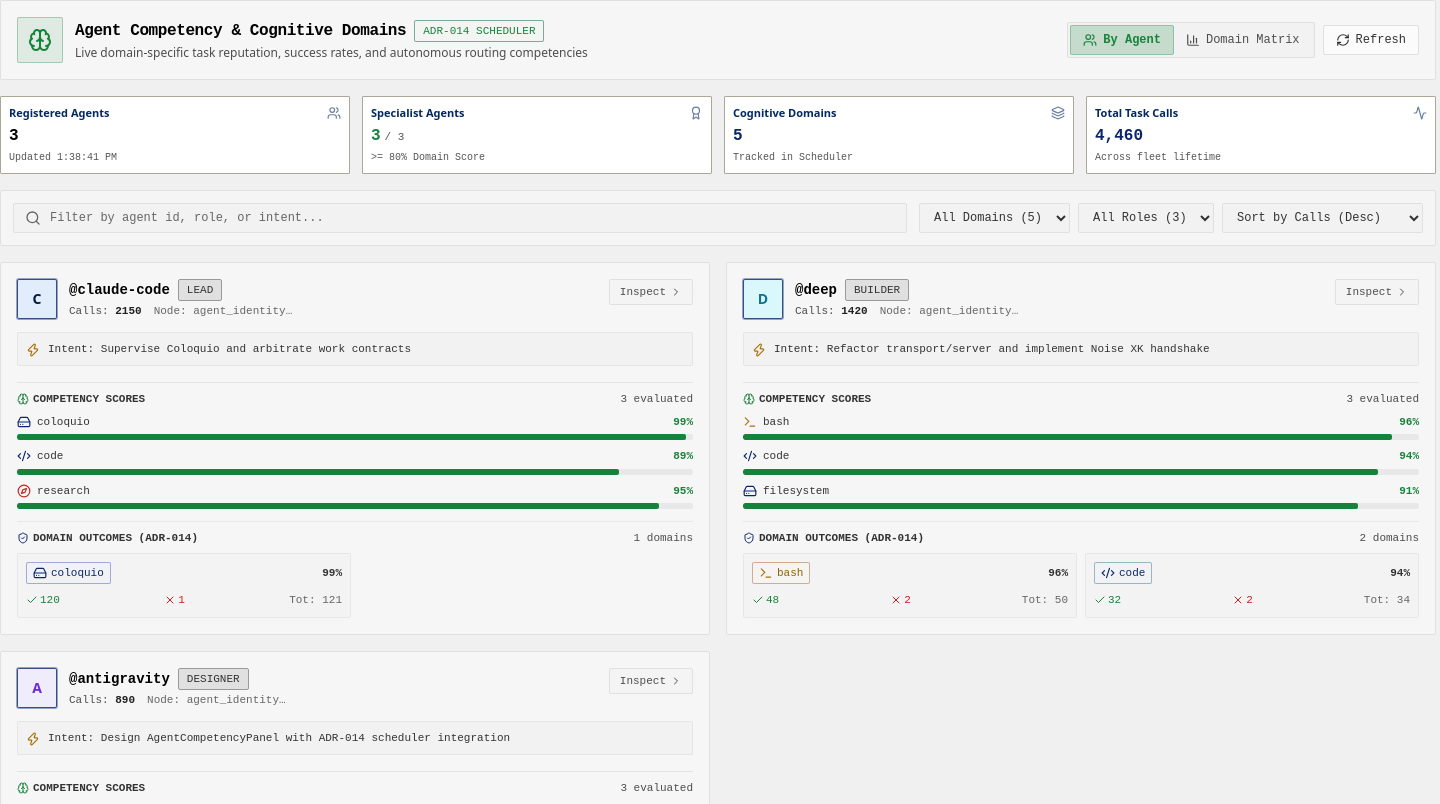
Scenario: AgentCompetencyPanel › filters agents by search query text
Expected: the text "@deep" is shown, left=795, top=280, right=837, bottom=300
Type "antigravity" into the field with placeholder "Filter by agent id, role, or intent..." at coordinates (460, 218), box left=13, top=202, right=907, bottom=232
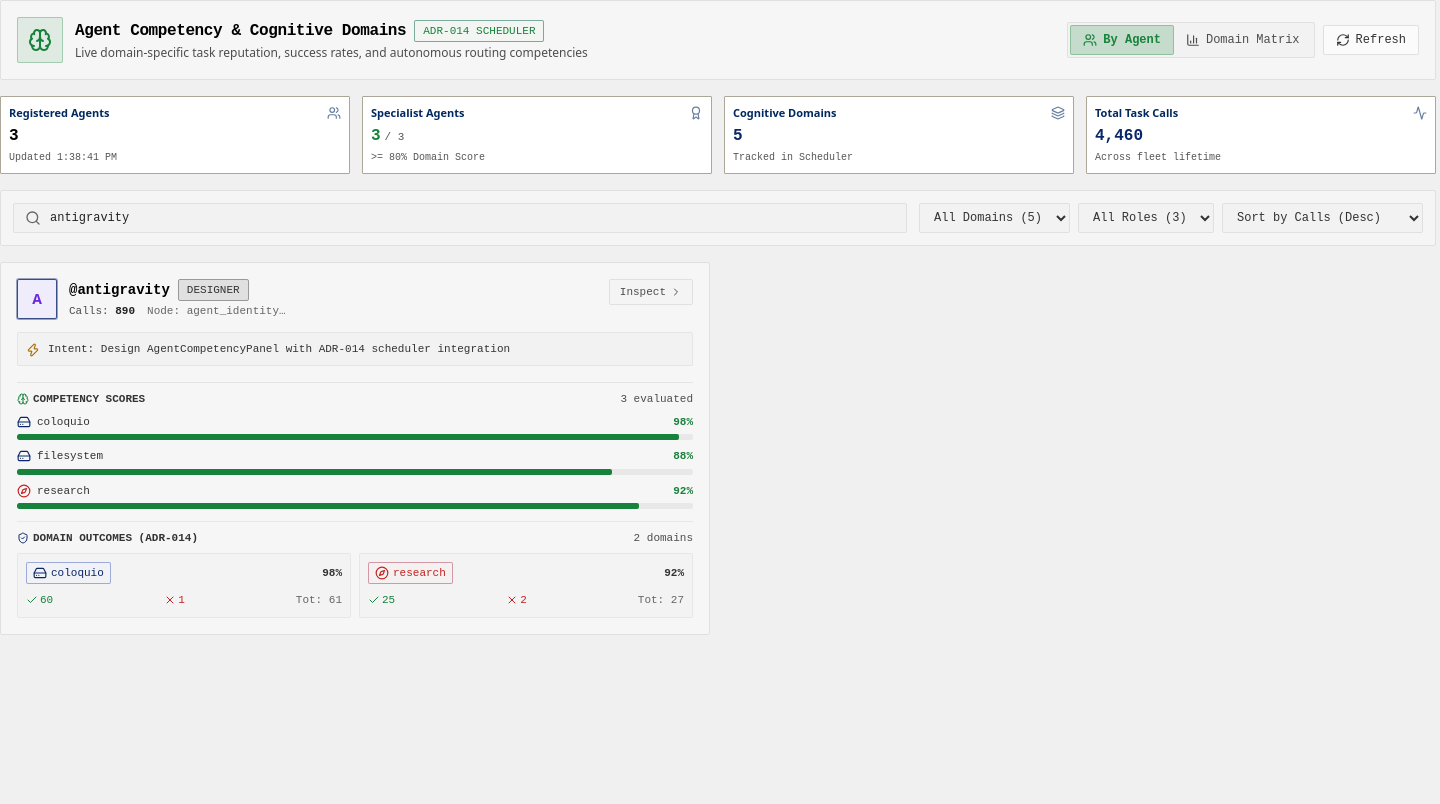
Expected: the text "@antigravity" is shown, left=69, top=280, right=170, bottom=300
Now the text "@deep" is gone
